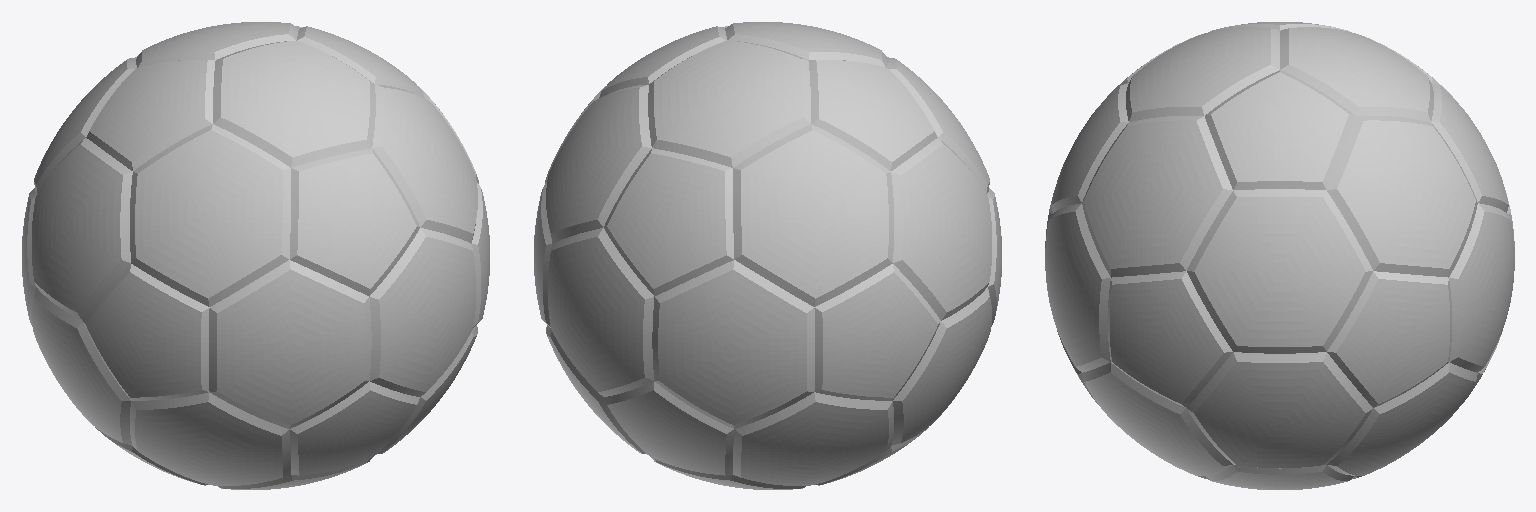
Rendered from ball.obj.
3 views of the same model, side by side, from view 1: azimuth 30°, elevation 25°; view 2: azimuth 150°, elevation 25°; view 3: azimuth 270°, elevation 25° (orthographic).
Parts seen in each view (by area): view 1: Solid.005; view 2: Solid.005; view 3: Solid.005.
Boxes of the visible parts, x1,y1,x2,y2 form: Solid.005: [22, 22, 489, 489]; Solid.005: [534, 22, 1001, 489]; Solid.005: [1045, 22, 1514, 489].
Bounding box in the file's own units: 1.94 × 1.94 × 1.94.